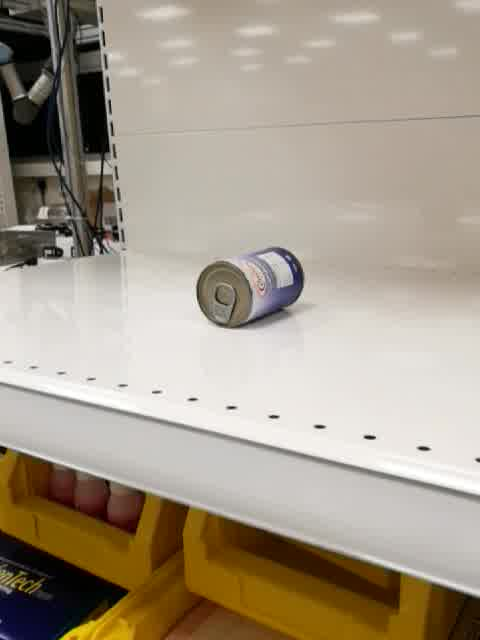sardine: (196, 246, 305, 329)
